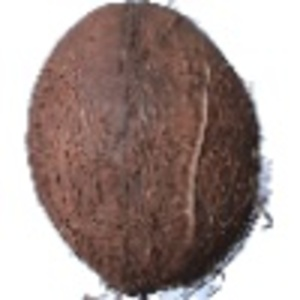coco: (26, 1, 281, 300)
